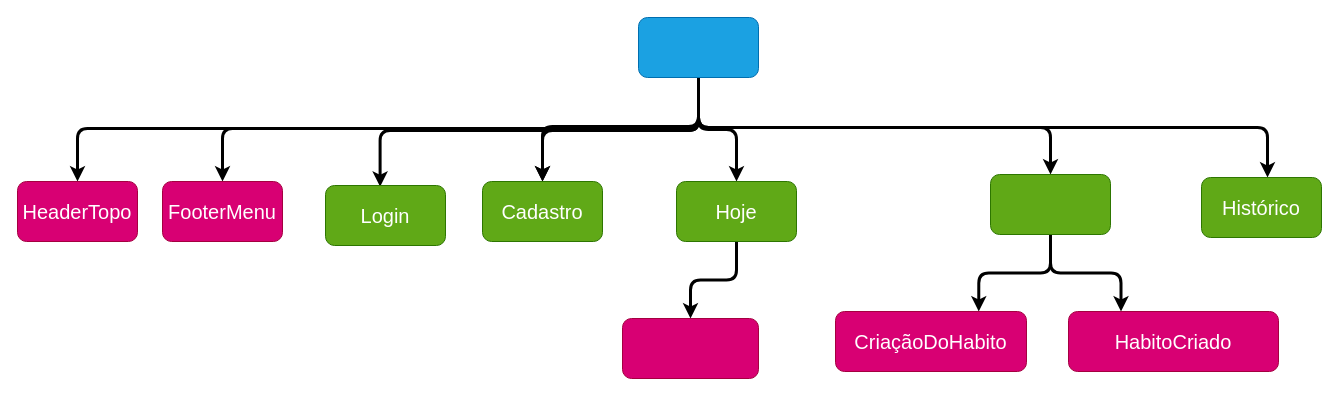
This 1339x396 diagram has some shape labels left out. The box of each missing label's shape, as (x1, y1, x2, y2) in pixels:
App: (638, 16, 758, 78)
HábitoDoDia: (622, 318, 758, 378)
Hábitos: (990, 174, 1110, 234)
